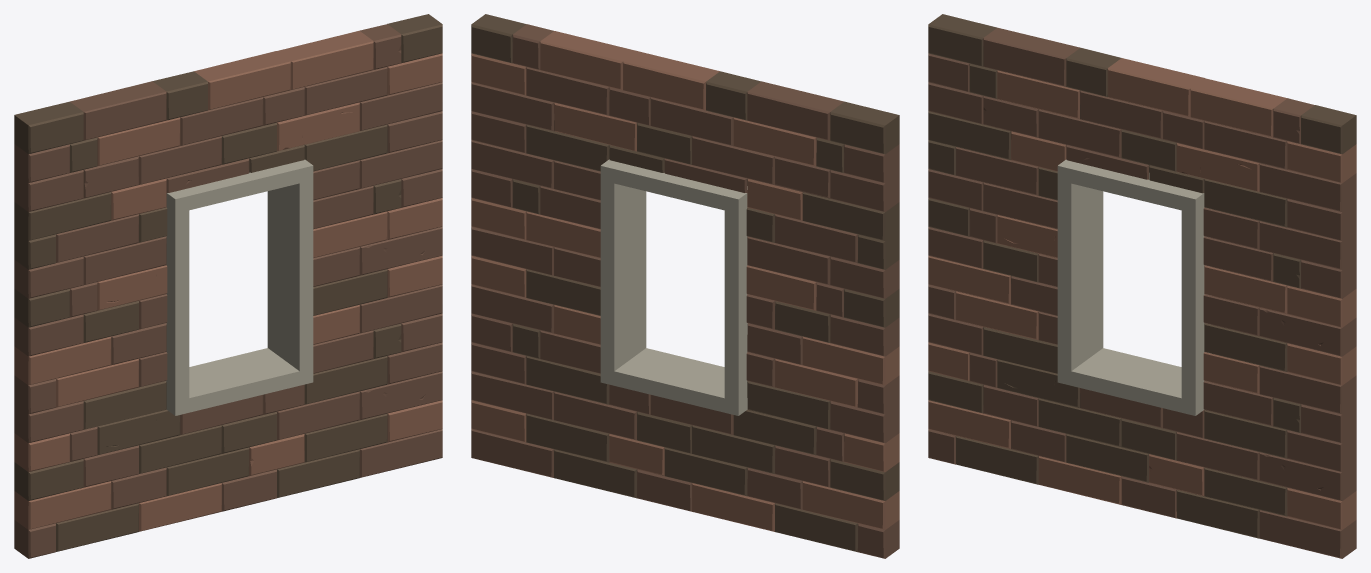
File: victorian_wall_brick_1_window_square.fbx
The picture shows the model from 3 angles, left to right: view 1: azimuth 30°, elevation 25°; view 2: azimuth 150°, elevation 25°; view 3: azimuth 330°, elevation 25°; orthographic projection.
Visible parts, largest first — view 1: Cube.248; view 2: Cube.248; view 3: Cube.248.
Part boxes in pixels (<box>): Cube.248: <box>14,14,442,558</box>; Cube.248: <box>471,14,899,558</box>; Cube.248: <box>928,14,1356,558</box>.
Size of the model in its own units: 300 by 300 by 40.
